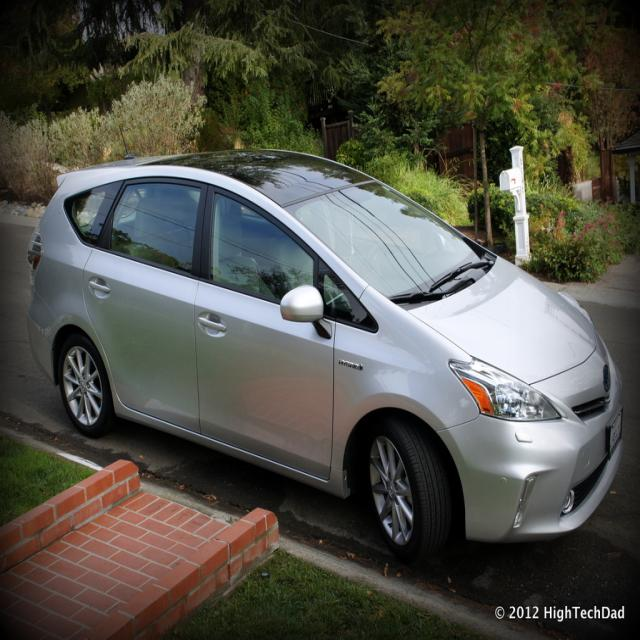car: (24, 149, 625, 570)
